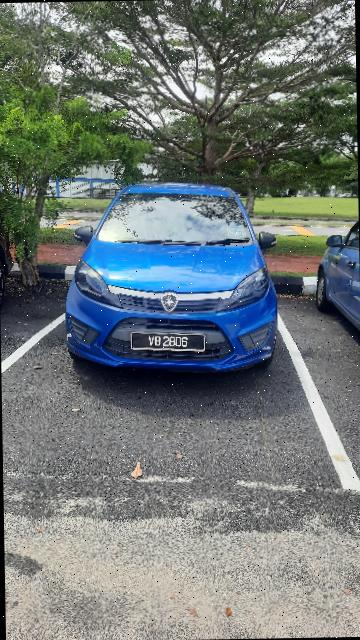License_Plate: (122, 317, 214, 357)
car: (58, 168, 286, 389)
